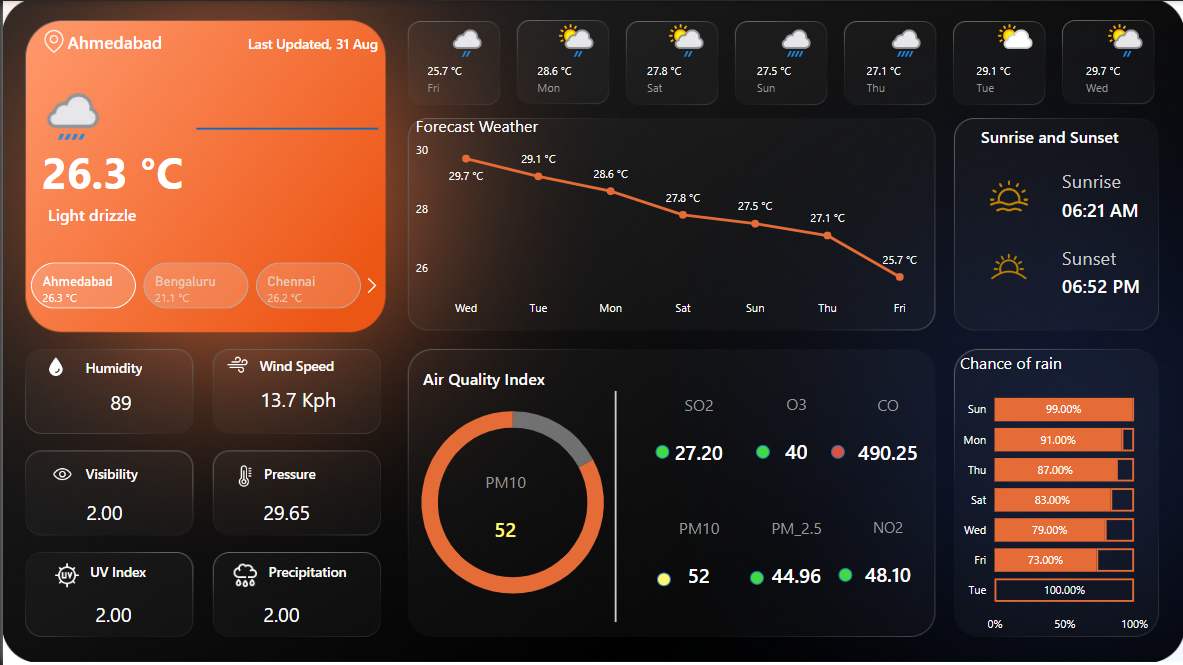

What the dashboard file says about the page in this screenshot:
{"tool":"powerbi","page":{"name":"Page 1","canvas":[1280,720],"ordinal":0},"visuals":[{"type":"advancedSlicerVisual","fields":{"Values":["Locations.location.name"]},"box":[5,278.3,410,60],"z":0},{"type":"shape","box":[41.7,153.3,155,61.7],"z":1000},{"type":"shape","box":[48.3,215,290,33.3],"z":2000},{"type":"shape","box":[70,28.3,106.7,33.3],"z":3000},{"type":"shape","box":[210,30,196.7,33.3],"z":4000},{"type":"image","box":[31.7,26.7,48.3,35],"z":5000},{"type":"cardVisual","fields":{"Data":["Min(Current.current.condition.icon)"]},"box":[15,61.7,96.7,108.3],"z":6000},{"type":"image","box":[40,380,33.3,31.7],"z":7000},{"type":"shape","box":[90,380,83.3,33.3],"z":8000},{"type":"image","box":[233.3,376.7,43.3,33.3],"z":9000},{"type":"shape","box":[278.3,378.3,83.3,33.3],"z":10000},{"type":"image","box":[36.7,496.7,53.3,33.3],"z":11000},{"type":"shape","box":[90,496.7,83.3,33.3],"z":12000},{"type":"image","box":[245,496.7,33.3,38.3],"z":13000},{"type":"shape","box":[283.3,496.7,83.3,33.3],"z":14000},{"type":"image","box":[48.3,603.3,41.7,38.3],"z":15000},{"type":"shape","box":[95,601.7,73.3,33.3],"z":16000},{"type":"image","box":[238.3,601.7,46.7,41.7],"z":17000},{"type":"shape","box":[288.3,601.7,96.7,33.3],"z":18000},{"type":"cardVisual","fields":{"Data":["Sum(Current.current.humidity)"]},"box":[100,395,65,68.3],"z":19000},{"type":"cardVisual","fields":{"Data":["_Measures.Wind_Speed"]},"box":[261.7,391.7,123.3,68.3],"z":20000},{"type":"cardVisual","fields":{"Data":["Sum(Current.current.vis_km)"]},"box":[73.3,513.3,85,68.3],"z":21000},{"type":"cardVisual","fields":{"Data":["Sum(Current.current.pressure_in)"]},"box":[265,513.3,85,68.3],"z":22000},{"type":"cardVisual","fields":{"Data":["Sum(Current.current.vis_km)"]},"box":[83.3,625,85,68.3],"z":23000},{"type":"cardVisual","fields":{"Data":["Sum(Current.current.vis_km)"]},"box":[265,625,85,68.3],"z":24000},{"type":"advancedSlicerVisual","fields":{"Values":["Forecast.Day_Name"]},"box":[441.7,13.3,838.3,105],"z":25000},{"type":"lineChart","title":"Forecast Weather","fields":{"Category":["Forecast.Day_Name"],"Y":["Sum(Forecast.forecast.forecastday.day.avgtemp_c)"]},"box":[442.4,123.6,566,227.7],"z":26000},{"type":"shape","box":[1060,131.7,156.7,31.7],"z":27000},{"type":"shape","box":[1148.3,165,108.3,61.7],"z":28000},{"type":"shape","box":[1148.3,246.7,108.3,61.7],"z":29000},{"type":"shape","box":[1148.3,195,108.3,61.7],"z":30000},{"type":"shape","box":[1148.3,278.3,108.3,61.7],"z":31000},{"type":"image","box":[1051.7,256.7,76.7,61.7],"z":32000},{"type":"image","box":[1058.3,185,63.3,51.7],"z":33000},{"type":"hundredPercentStackedBarChart","title":"Chance of rain","fields":{"Y":["Sum(Forecast.forecast.forecastday.day.daily_chance_of_rain)","Current.Left_value_Rain"],"Category":["Forecast.Day_Name"]},"box":[1033.3,380,213.3,313.3],"z":34000},{"type":"shape","box":[455,393.3,156.7,31.7],"z":35000},{"type":"cardVisual","title":"CO","fields":{"Data":["Sum(Current.current.air_quality.co)"]},"box":[898.6,425.9,123.6,100.2],"z":35001},{"type":"cardVisual","title":"NO2","fields":{"Data":["Sum(Current.current.air_quality.no2)"]},"box":[898.6,559.6,123.6,100.2],"z":35002},{"type":"cardVisual","title":"PM_2.5","fields":{"Data":["Sum(Current.current.air_quality.pm2_5)"]},"box":[798.4,559.6,123.6,100.2],"z":35003},{"type":"cardVisual","title":"O3","fields":{"Data":["Sum(Current.current.air_quality.o3)"]},"box":[798.4,424.3,123.6,100.2],"z":35004},{"type":"cardVisual","title":"PM10","fields":{"Data":["Sum(Current.current.air_quality.pm10)"]},"box":[693.2,559.6,123.6,100.2],"z":35005},{"type":"cardVisual","title":"SO2","fields":{"Data":["Sum(Current.current.air_quality.so2)"]},"box":[693.2,425.9,123.6,100.2],"z":35006},{"type":"shape","box":[709.9,619.7,15,15],"z":35007},{"type":"shape","box":[898.6,481,15,15],"z":35008},{"type":"shape","box":[816.8,481,15,15],"z":35009},{"type":"shape","box":[708.2,481,15,15],"z":35010},{"type":"shape","box":[810.1,618,15,15],"z":35011},{"type":"shape","box":[905.3,614.7,15,15],"z":35012},{"type":"shape","box":[210,63,197,150],"z":35013},{"type":"shape","box":[544.5,422.6,238.9,250.5],"z":35014},{"type":"cardVisual","title":"PM10","fields":{"Data":["Sum(Current.current.air_quality.pm10)"]},"box":[482.7,509.4,123.6,100.2],"z":35015},{"type":"donutChart","title":"PM10","fields":{"Y":["Sum(Current.current.air_quality.pm10)","_Measures.Left_value_PM10"]},"box":[362.5,414.2,379.2,257.2],"z":35016}]}

Visuals, with their boxes in screenshot pixels (x1, y1, x2, y2), scaled from the page's 1280x720 canvas onto the 1183x665 screenshot:
advancedSlicerVisual - Locations.location.name: Rect(5, 257, 384, 312)
shape: Rect(39, 142, 182, 199)
shape: Rect(45, 199, 313, 229)
shape: Rect(65, 26, 163, 57)
shape: Rect(194, 28, 376, 58)
image: Rect(29, 25, 74, 57)
cardVisual - Min(Current.current.condition.icon): Rect(14, 57, 103, 157)
image: Rect(37, 351, 68, 380)
shape: Rect(83, 351, 160, 382)
image: Rect(216, 348, 256, 379)
shape: Rect(257, 349, 334, 380)
image: Rect(34, 459, 83, 490)
shape: Rect(83, 459, 160, 490)
image: Rect(226, 459, 257, 494)
shape: Rect(262, 459, 339, 490)
image: Rect(45, 557, 83, 593)
shape: Rect(88, 556, 156, 586)
image: Rect(220, 556, 263, 594)
shape: Rect(266, 556, 356, 586)
cardVisual - Sum(Current.current.humidity): Rect(92, 365, 152, 428)
cardVisual - _Measures.Wind_Speed: Rect(242, 362, 356, 425)
cardVisual - Sum(Current.current.vis_km): Rect(68, 474, 146, 537)
cardVisual - Sum(Current.current.pressure_in): Rect(245, 474, 323, 537)
cardVisual - Sum(Current.current.vis_km): Rect(77, 577, 156, 640)
cardVisual - Sum(Current.current.vis_km): Rect(245, 577, 323, 640)
advancedSlicerVisual - Forecast.Day_Name: Rect(408, 12, 1182, 109)
"Forecast Weather" lineChart: Rect(409, 114, 932, 324)
shape: Rect(980, 122, 1124, 151)
shape: Rect(1061, 152, 1161, 209)
shape: Rect(1061, 228, 1161, 285)
shape: Rect(1061, 180, 1161, 237)
shape: Rect(1061, 257, 1161, 314)
image: Rect(972, 237, 1043, 294)
image: Rect(978, 171, 1037, 219)
"Chance of rain" hundredPercentStackedBarChart: Rect(955, 351, 1152, 640)
shape: Rect(421, 363, 565, 393)
"CO" cardVisual: Rect(831, 393, 945, 486)
"NO2" cardVisual: Rect(831, 517, 945, 609)
"PM_2.5" cardVisual: Rect(738, 517, 852, 609)
"O3" cardVisual: Rect(738, 392, 852, 484)
"PM10" cardVisual: Rect(641, 517, 755, 609)
"SO2" cardVisual: Rect(641, 393, 755, 486)
shape: Rect(656, 572, 670, 586)
shape: Rect(831, 444, 844, 458)
shape: Rect(755, 444, 769, 458)
shape: Rect(655, 444, 668, 458)
shape: Rect(749, 571, 763, 585)
shape: Rect(837, 568, 851, 582)
shape: Rect(194, 58, 376, 197)
shape: Rect(503, 390, 724, 622)
"PM10" cardVisual: Rect(446, 470, 560, 563)
"PM10" donutChart: Rect(335, 383, 685, 620)
